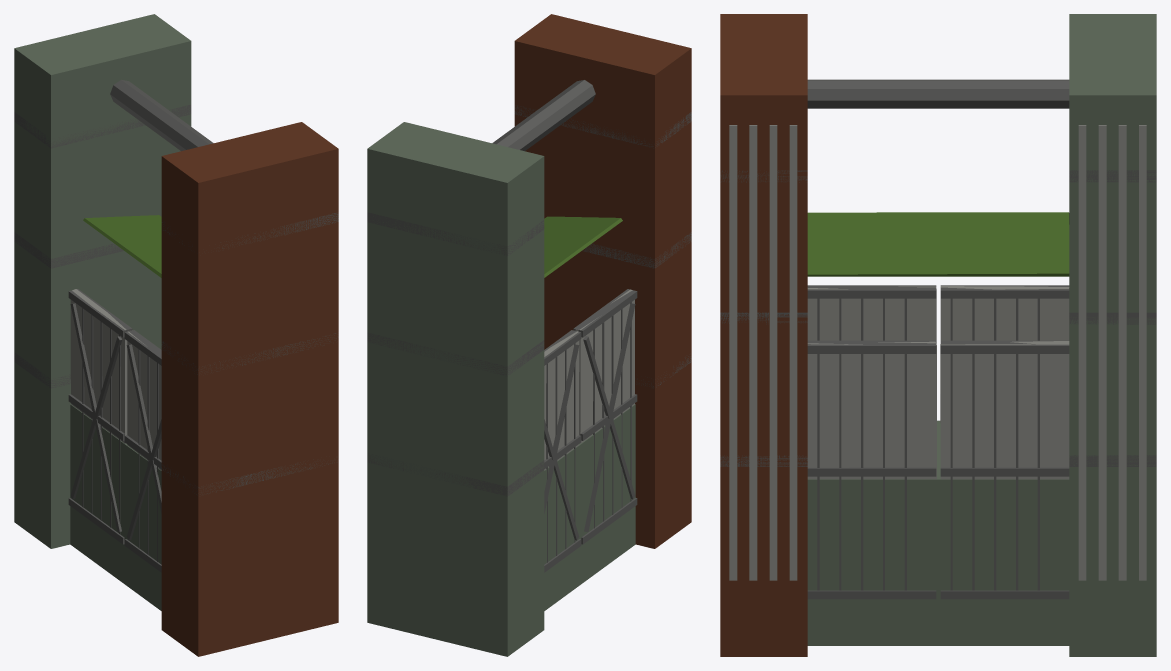
The model's file is fort_cistern_inner.glb.
3 renders of one model, left to right at view 1: azimuth 30°, elevation 25°; view 2: azimuth 150°, elevation 25°; view 3: azimuth 270°, elevation 25°, orthographic. The views are drawn at different scales.
Visible parts, largest first — view 1: fort_cistern_inner; view 2: fort_cistern_inner; view 3: fort_cistern_inner.
Boxes of the visible parts, <box> form: fort_cistern_inner: <box>14,14,338,656</box>; fort_cistern_inner: <box>367,14,691,656</box>; fort_cistern_inner: <box>720,14,1156,656</box>.
Bounding box in the file's own units: 4.45 × 14.2 × 10.
